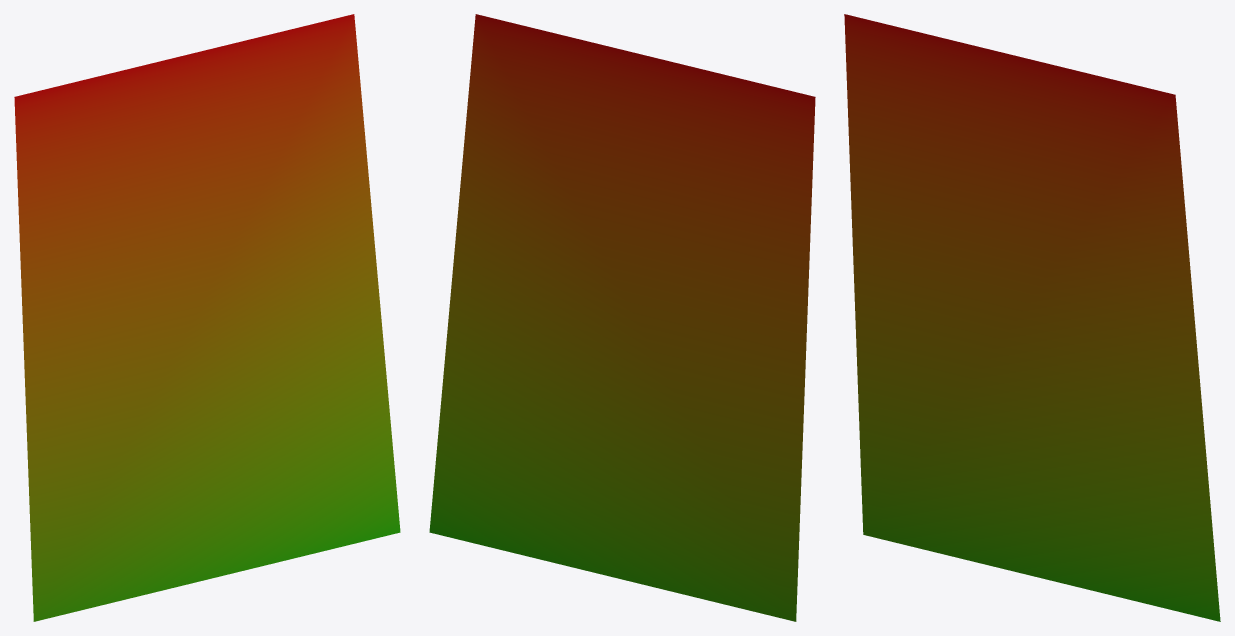
Rendered from Basket Grass_LOD4_Var6_slfpffjr.fbx.
The picture shows the model from 3 angles, left to right: view 1: azimuth 30°, elevation 25°; view 2: azimuth 150°, elevation 25°; view 3: azimuth 330°, elevation 25°; orthographic projection. The views are drawn at different scales.
Visible parts, largest first — view 1: _9599_Var6_LOD4; view 2: _9599_Var6_LOD4; view 3: _9599_Var6_LOD4.
Boxes of the visible parts, box(x1,y1,x2,y2) form: _9599_Var6_LOD4: box(14, 14, 400, 621); _9599_Var6_LOD4: box(429, 14, 815, 621); _9599_Var6_LOD4: box(844, 14, 1220, 621).
Bounding box in the file's own units: 36.9 × 48.39 × 1.07e-06.
